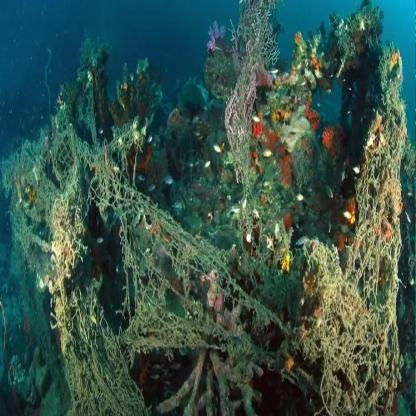net: (53, 152, 393, 416)
